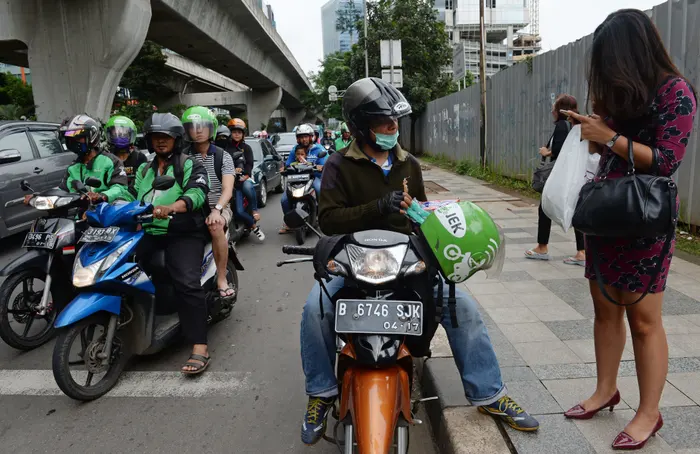plate: (334, 297, 423, 335)
